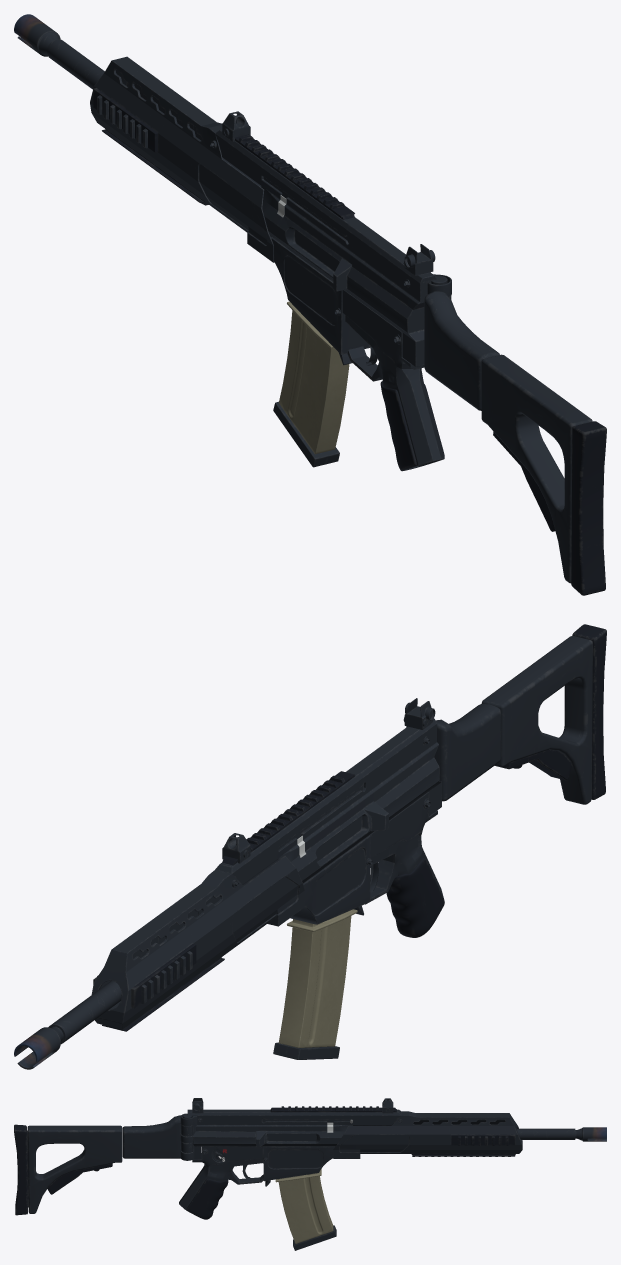
File: FX-05 Xiuhcoatl.fbx
3 views of the same model, one above another, from view 1: azimuth 30°, elevation 25°; view 2: azimuth 150°, elevation 25°; view 3: azimuth 270°, elevation 25° (orthographic). The views are drawn at different scales.
Visible parts, largest first — view 1: receiber.001, Cube.072, Cube.049, Plane.013, Cube.066, Cube.050, Cube.048, Cube.054, Cylinder.010, Cube.071, railing top.002, Plane.011 (+3 smaller); view 2: Cube.072, receiber.001, Cube.049, Plane.013, Cube.048, Cube.054, Cube.066, Cube.071, Cylinder.010, Cube.050, railing top.002, Cube.062 (+8 smaller); view 3: Cube.072, receiber.001, Cube.049, Plane.013, Cube.066, Cube.048, Cube.054, Cylinder.010, Cube.050, Cube.071, Cube.051, rail top.001 (+9 smaller).
Boxes of the visible parts, x1,y1,x2,y2 form: receiber.001: [215, 129, 436, 366]; Cube.072: [90, 56, 274, 262]; Cube.049: [481, 354, 592, 583]; Plane.013: [279, 301, 349, 454]; Cube.066: [342, 290, 444, 470]; Cube.050: [571, 421, 606, 595]; Cube.048: [424, 291, 499, 410]; Cube.054: [271, 238, 370, 354]; Cylinder.010: [14, 14, 261, 186]; Cube.071: [380, 381, 444, 471]; railing top.002: [238, 135, 344, 209]; Plane.011: [273, 401, 339, 467]; Cube.072: [91, 855, 304, 1029]; receiber.001: [215, 718, 441, 884]; Cube.049: [481, 636, 592, 804]; Plane.013: [278, 909, 357, 1047]; Cube.048: [434, 704, 500, 801]; Cube.054: [290, 835, 370, 924]; Cube.066: [365, 792, 444, 904]; Cube.071: [386, 857, 444, 937]; Cylinder.010: [14, 858, 278, 1069]; Cube.050: [572, 624, 606, 799]; railing top.002: [246, 775, 345, 849]; Cube.062: [495, 749, 571, 780]; Cube.072: [333, 1111, 522, 1158]; receiber.001: [187, 1109, 401, 1159]; Cube.049: [27, 1125, 122, 1213]; Plane.013: [275, 1169, 333, 1243]; Cube.066: [179, 1146, 263, 1209]; Cube.048: [122, 1115, 181, 1158]; Cube.054: [263, 1146, 334, 1181]; Cylinder.010: [517, 1127, 606, 1141]; Cube.050: [14, 1124, 28, 1215]; Cube.071: [186, 1178, 228, 1219]; Cube.051: [451, 1134, 515, 1145]; rail top.001: [270, 1107, 396, 1112].
Size of the model in its own units: 26.87 by 139 by 503.
